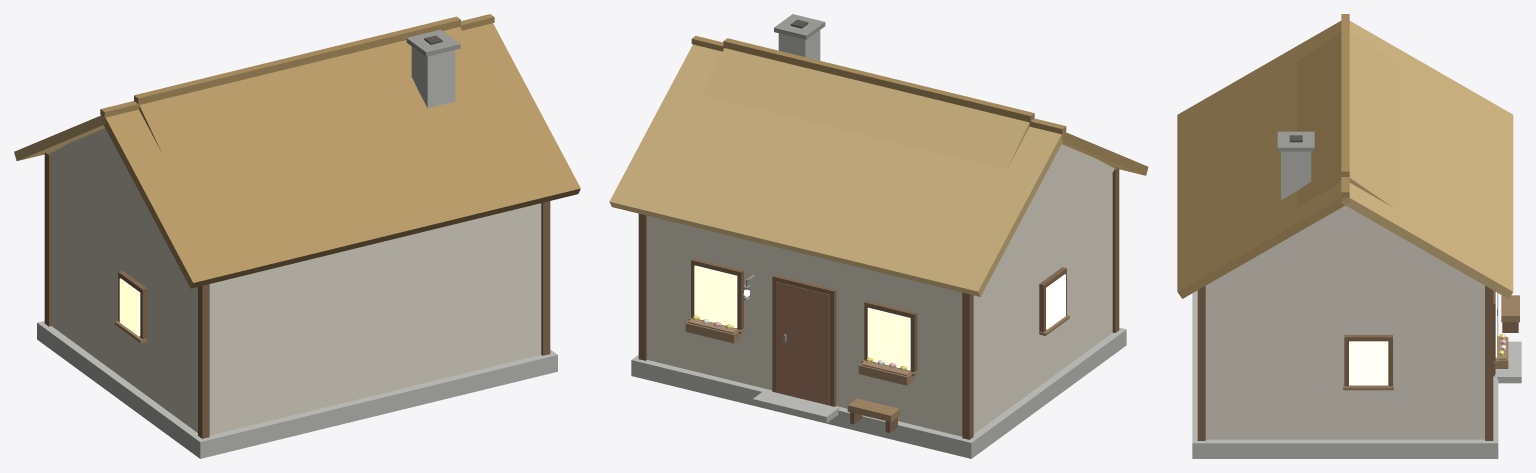
The model's file is village_grandmother_cottage.glb.
The picture shows the model from 3 angles, left to right: view 1: azimuth 30°, elevation 25°; view 2: azimuth 150°, elevation 25°; view 3: azimuth 270°, elevation 25°; orthographic projection. The views are drawn at different scales.
Visible parts, largest first — view 1: village_grandmother_cottage; view 2: village_grandmother_cottage; view 3: village_grandmother_cottage.
Part boxes in pixels (x1,y1,x2,y2): village_grandmother_cottage: [14, 14, 580, 458]; village_grandmother_cottage: [609, 14, 1148, 458]; village_grandmother_cottage: [1177, 14, 1521, 458].
Size of the model in its own units: 7.28 by 5.51 by 5.94.
